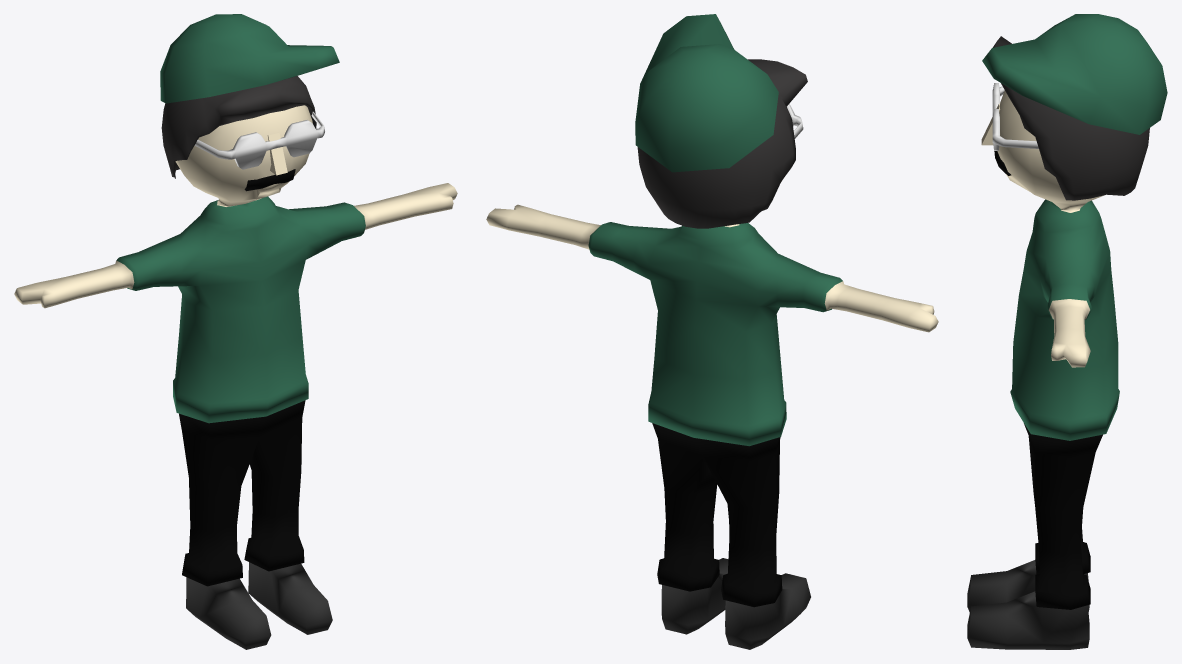
The model's file is garbageman.fbx.
3 views of the same model, side by side, from view 1: azimuth 30°, elevation 25°; view 2: azimuth 150°, elevation 25°; view 3: azimuth 270°, elevation 25° (orthographic). The views are drawn at different scales.
Visible parts, largest first — view 1: garbage_man, garbage_man_hat, garbage_man_hair, garbage_man_glasses; view 2: garbage_man, garbage_man_hat, garbage_man_hair; view 3: garbage_man, garbage_man_hat, garbage_man_hair, garbage_man_glasses.
Boxes of the visible parts, x1,y1,x2,y2 form: garbage_man: (14, 105, 457, 649); garbage_man_hat: (160, 14, 339, 103); garbage_man_hair: (161, 76, 316, 178); garbage_man_glasses: (194, 111, 324, 169); garbage_man: (486, 180, 938, 649); garbage_man_hat: (635, 14, 778, 172); garbage_man_hair: (637, 59, 807, 228); garbage_man: (967, 90, 1119, 649); garbage_man_hat: (982, 14, 1167, 134); garbage_man_hair: (992, 36, 1149, 200); garbage_man_glasses: (992, 83, 1038, 150).
Bounding box in the file's own units: 78.09 × 99.18 × 29.64.
